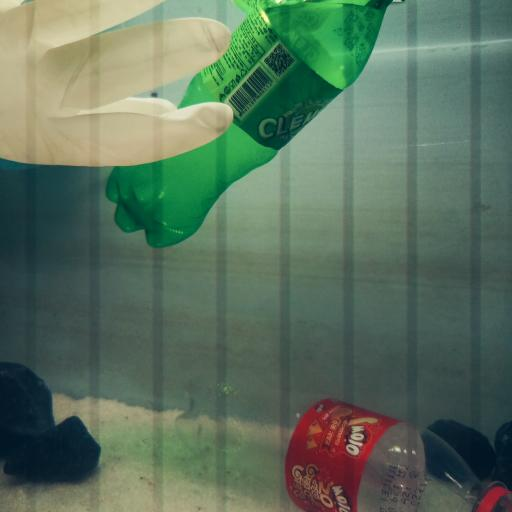glove: (2, 1, 236, 162)
plastic_bottle: (103, 1, 397, 251), (175, 365, 512, 512)
